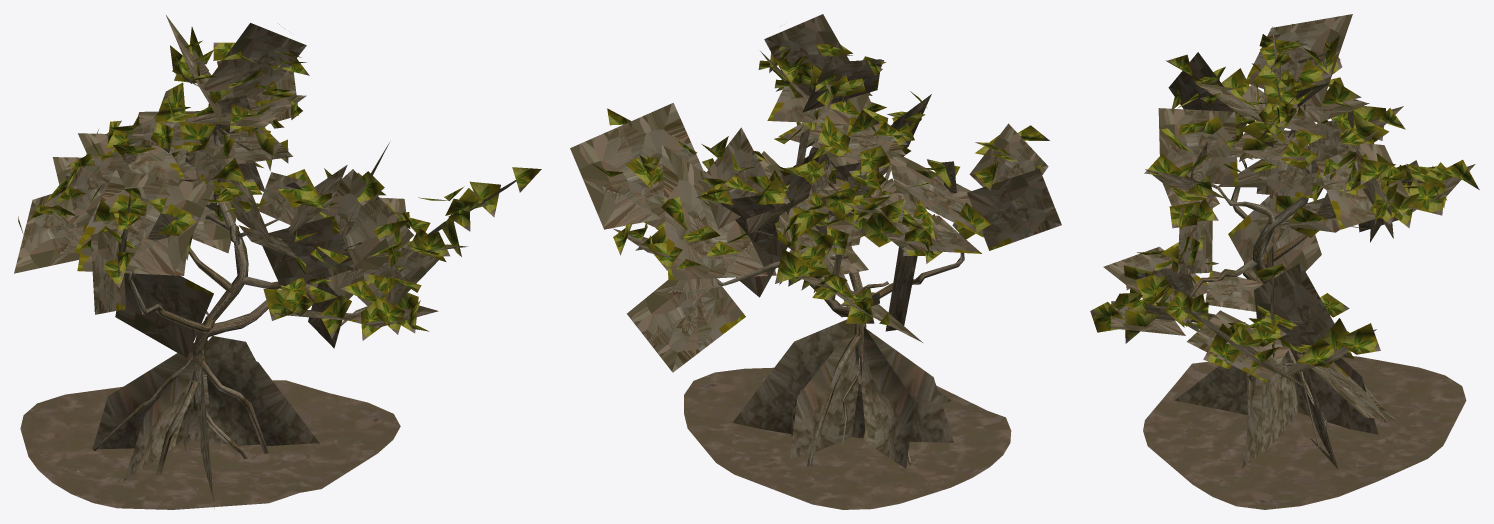
The model's file is duoc.glb.
3 views of the same model, side by side, from view 1: azimuth 30°, elevation 25°; view 2: azimuth 150°, elevation 25°; view 3: azimuth 270°, elevation 25° (orthographic). The views are drawn at different scales.
Parts seen in each view (by area): view 1: SM_MangroveTree.001_0, Plane_2; view 2: SM_MangroveTree.001_0, Plane_2; view 3: SM_MangroveTree.001_0, Plane_2.
Boxes of the visible parts, x1,y1,x2,y2 form: SM_MangroveTree.001_0: (14,15,541,507); Plane_2: (20,380,400,509); SM_MangroveTree.001_0: (570,14,1061,468); Plane_2: (684,367,1011,509); SM_MangroveTree.001_0: (1090,14,1479,469); Plane_2: (1143,356,1466,509).
Size of the model in its own units: 1 by 0.8765 by 0.7185.
Materials: 3 (3 with a texture image).
